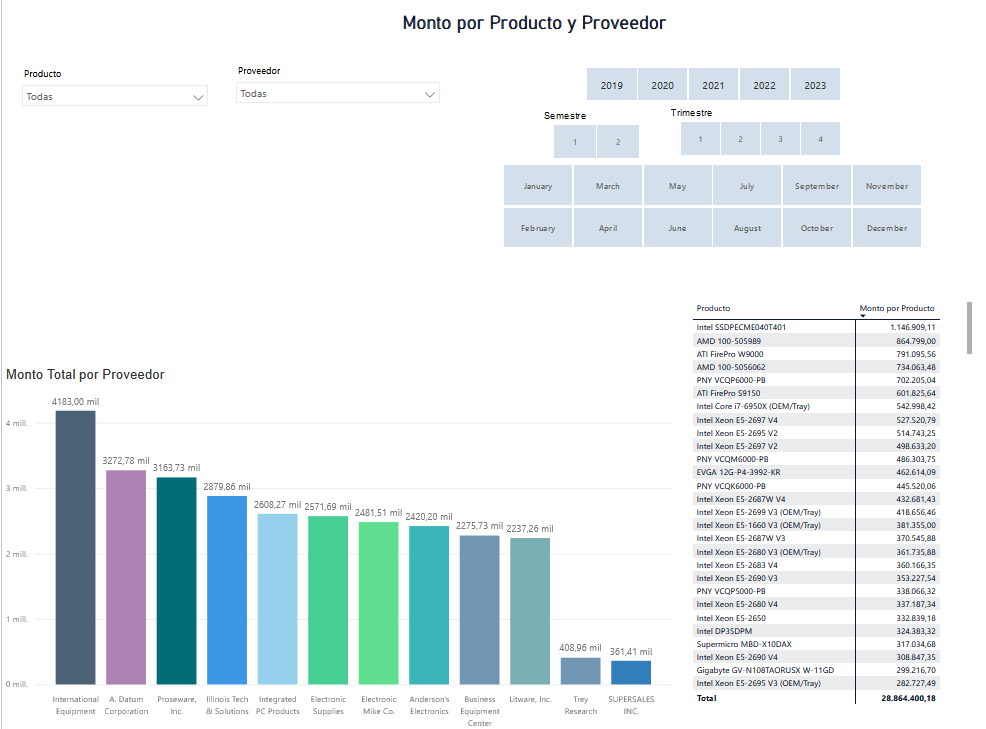

What the dashboard file says about the page in this screenshot:
{"tool":"powerbi","page":{"name":"Monto por Producto-Proveedor","canvas":[1280,950],"ordinal":2},"visuals":[{"type":"pivotTable","fields":{"Rows":["dimitem.item_name"],"Values":["factdetalleordencompra.Monto por Producto"]},"box":[885.4,385.7,370.5,530.1],"z":0},{"type":"clusteredColumnChart","title":"Monto Total por Proveedor","fields":{"Category":["dimsupplier.supplier_name"],"Y":["factdetalleordencompra.Monto Total Producto-Proveedor"]},"box":[0,475,868.3,475],"z":1000},{"type":"slicer","fields":{"Values":["dimdate.year"]},"box":[727.7,83.6,376.2,55.1],"z":2000},{"type":"slicer","fields":{"Values":["dimdate.semestre"]},"box":[685.9,138.7,159.6,74.1],"z":3000},{"type":"slicer","fields":{"Values":["dimdate.trimestre"]},"box":[849.3,134.9,254.6,74.1],"z":4000},{"type":"slicer","fields":{"Values":["dimdate.fecha.Variación.Date Hierarchy.Month"]},"box":[621.3,209,587.1,119.7],"z":5000},{"type":"textbox","box":[323.6,12.7,725,66.9],"z":6000},{"type":"slicer","fields":{"Values":["dimsupplier.supplier_name"]},"box":[290.7,79.8,283.1,76],"z":7000},{"type":"slicer","fields":{"Values":["dimitem.item_name"]},"box":[15.2,83.6,260.3,55.1],"z":8000}]}

Visuals, with their boxes in screenshot pixels (x1, y1, x2, y2), scaled from the page's 1280x950 canvas onto the 986x729 screenshot:
pivotTable - dimitem.item_name x factdetalleordencompra.Monto por Producto: (left=682, top=296, right=967, bottom=703)
"Monto Total por Proveedor" clusteredColumnChart: (left=0, top=364, right=669, bottom=728)
slicer - dimdate.year: (left=561, top=64, right=850, bottom=106)
slicer - dimdate.semestre: (left=528, top=106, right=651, bottom=163)
slicer - dimdate.trimestre: (left=654, top=104, right=850, bottom=160)
slicer - dimdate.fecha.Variación.Date Hierarchy.Month: (left=479, top=160, right=931, bottom=252)
textbox: (left=249, top=10, right=808, bottom=61)
slicer - dimsupplier.supplier_name: (left=224, top=61, right=442, bottom=120)
slicer - dimitem.item_name: (left=12, top=64, right=212, bottom=106)
